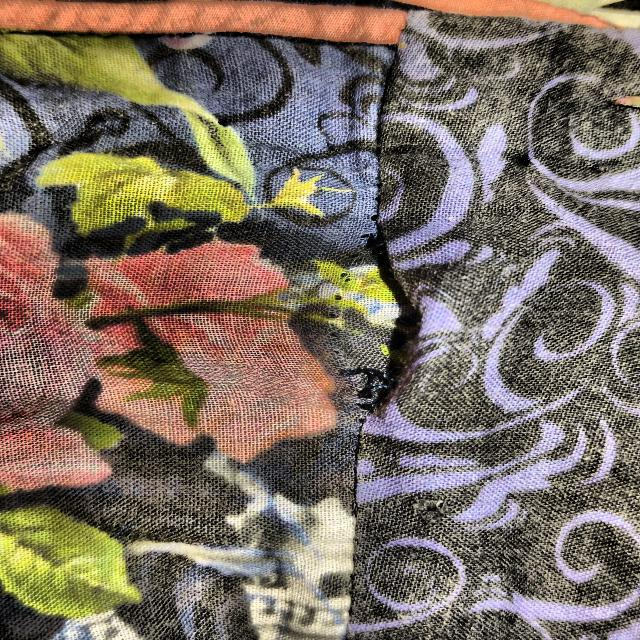seam: (268, 198, 494, 477)
